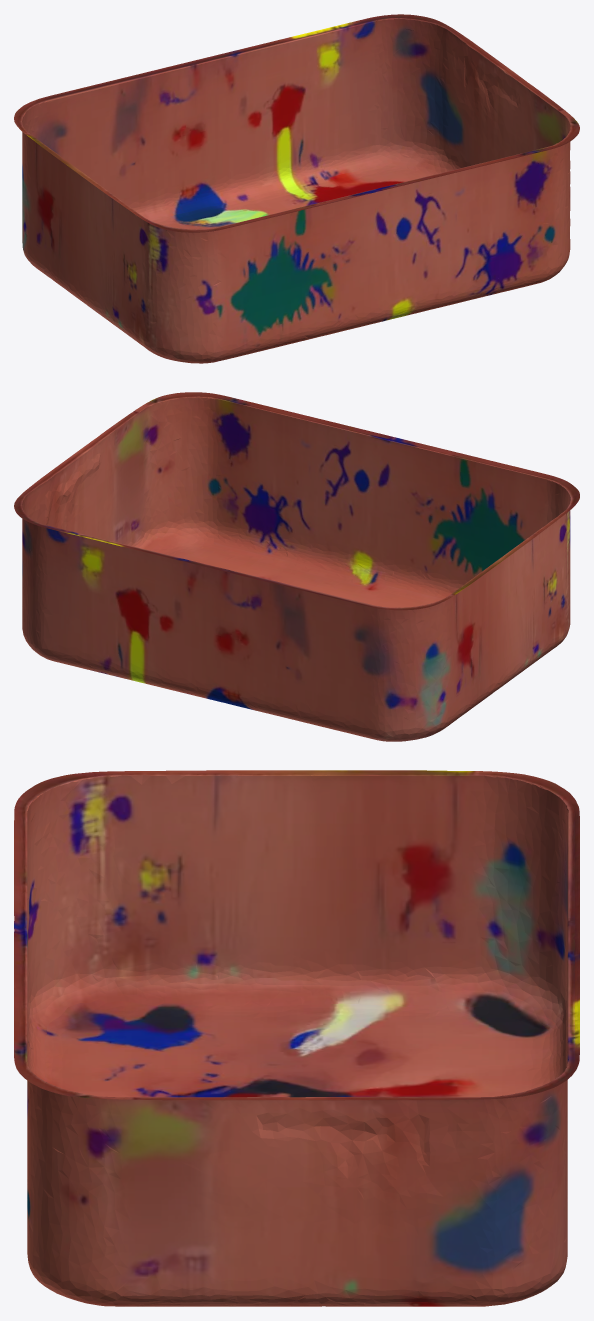
The picture shows the model from 3 angles, top to bottom: view 1: azimuth 30°, elevation 25°; view 2: azimuth 150°, elevation 25°; view 3: azimuth 270°, elevation 25°; orthographic projection. The views are drawn at different scales.
Parts seen in each view (by area): view 1: source_surface_0; view 2: source_surface_0; view 3: source_surface_0.
Part boxes in pixels (x1,y1,x2,y2): source_surface_0: (14,14,579,363); source_surface_0: (14,392,579,741); source_surface_0: (14,770,579,1306).
Size of the model in its own units: 0.1937 by 0.0612 by 0.1403.
Materials: 1 (1 with a texture image).
